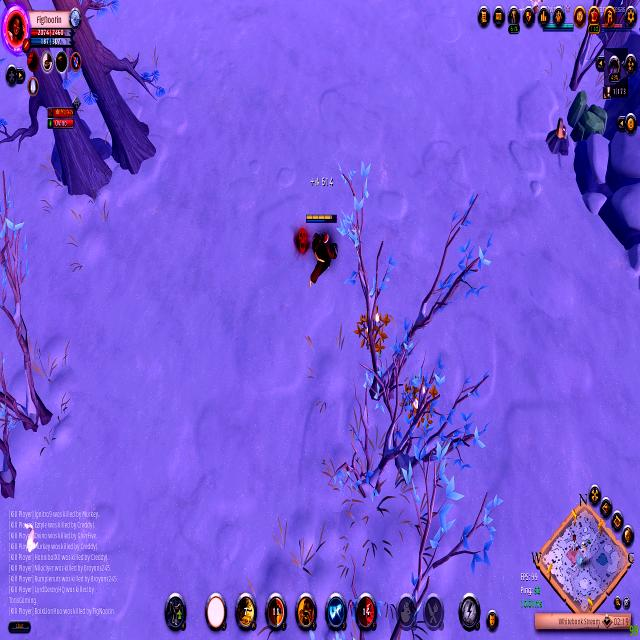hide: (399, 369, 440, 433), (357, 303, 390, 362)
player: (544, 109, 574, 168)
red: (300, 200, 345, 299), (593, 0, 637, 39), (538, 5, 578, 40)
tree: (564, 76, 612, 156)
